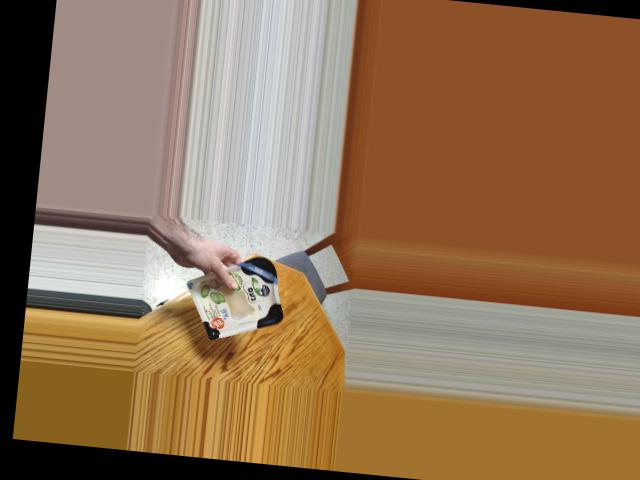cheese: (198, 255, 292, 343)
